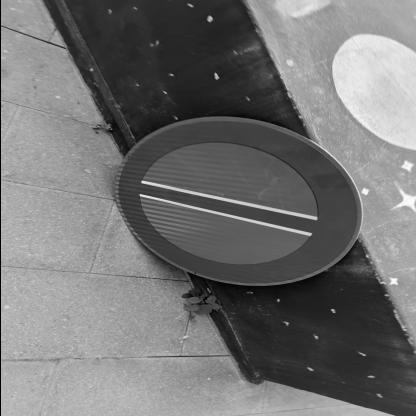No Waiting: (115, 117, 363, 286)
